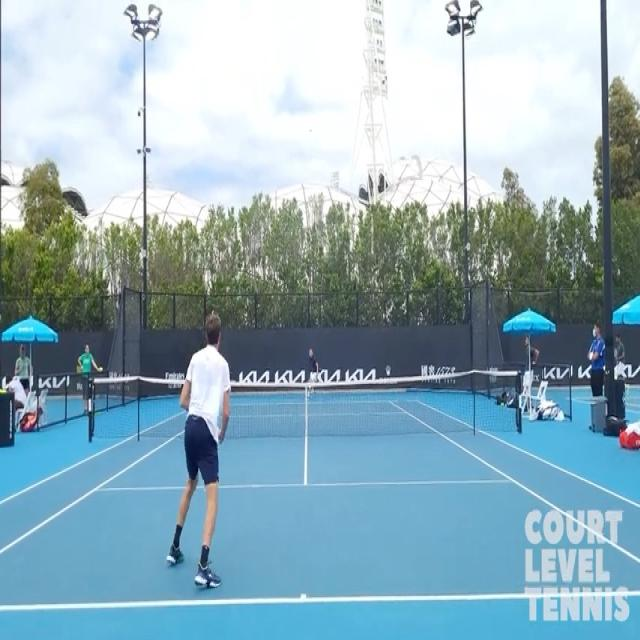ready-position: (160, 303, 242, 596)
